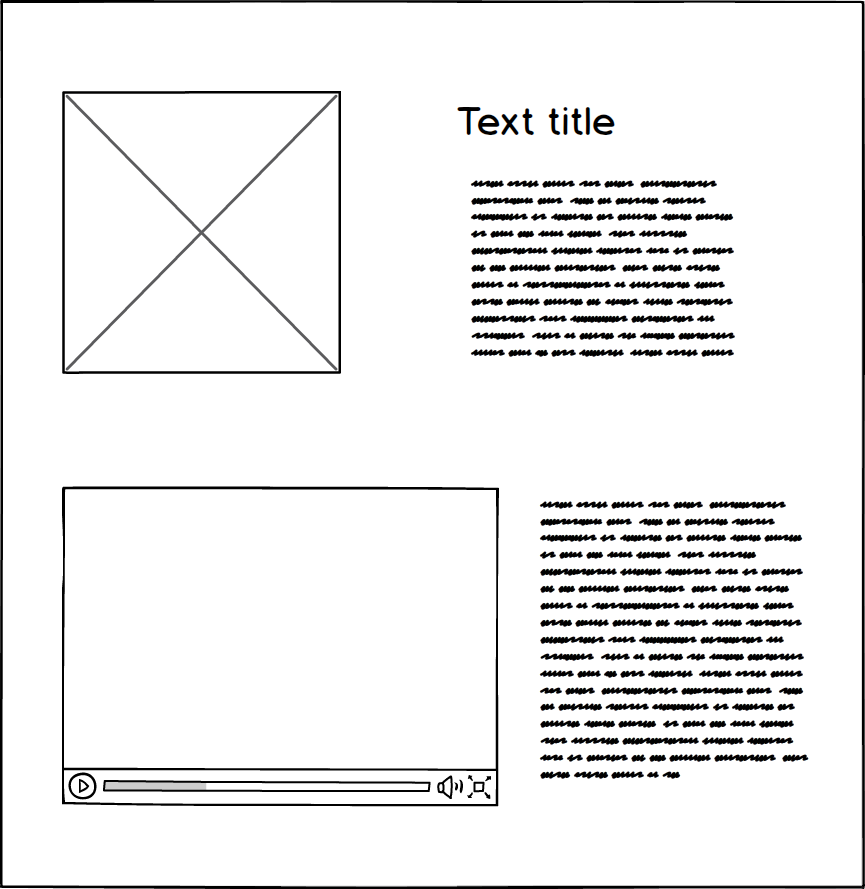h1: (453, 93, 621, 143)
image: (55, 86, 348, 381)
p: (537, 494, 817, 786), (467, 177, 744, 369)
video: (55, 483, 502, 813)
